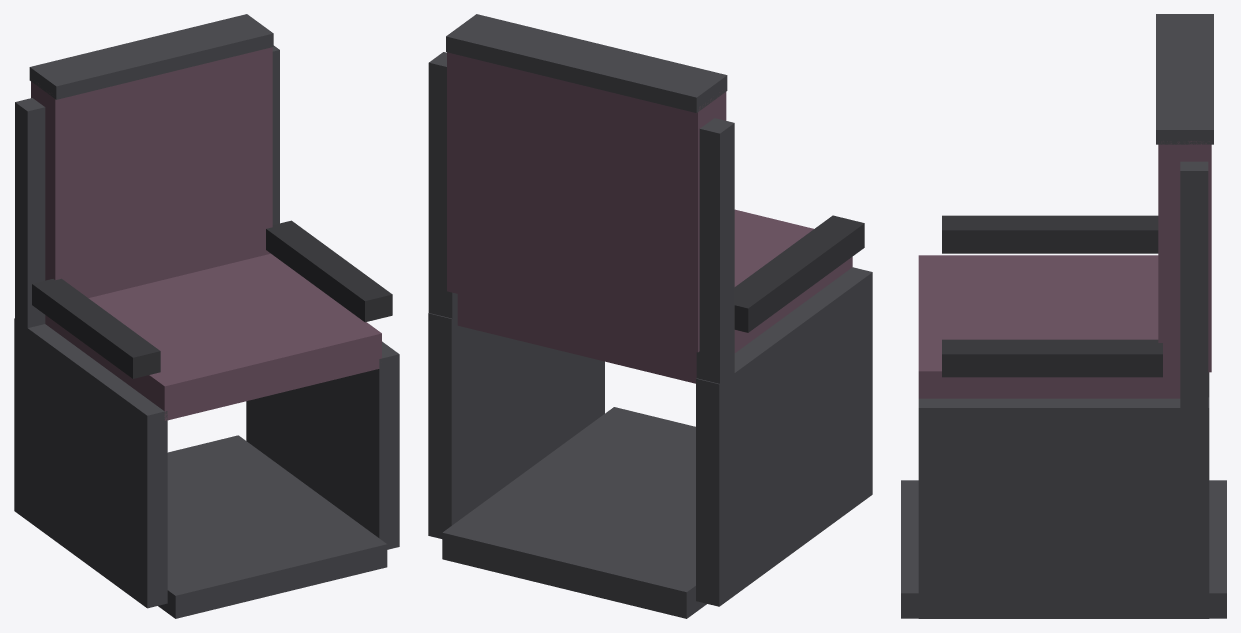
The model's file is seminar_seat.glb.
3 views of the same model, side by side, from view 1: azimuth 30°, elevation 25°; view 2: azimuth 150°, elevation 25°; view 3: azimuth 270°, elevation 25° (orthographic). The views are drawn at different scales.
Parts seen in each view (by area): view 1: Seminar Seat; view 2: Seminar Seat; view 3: Seminar Seat.
Part boxes in pixels (box(x1,y1,x2,y2)): Seminar Seat: box(14, 14, 399, 618); Seminar Seat: box(428, 14, 872, 618); Seminar Seat: box(901, 14, 1226, 618).
Bounding box in the file's own units: 0.282 × 0.465 × 0.28.
